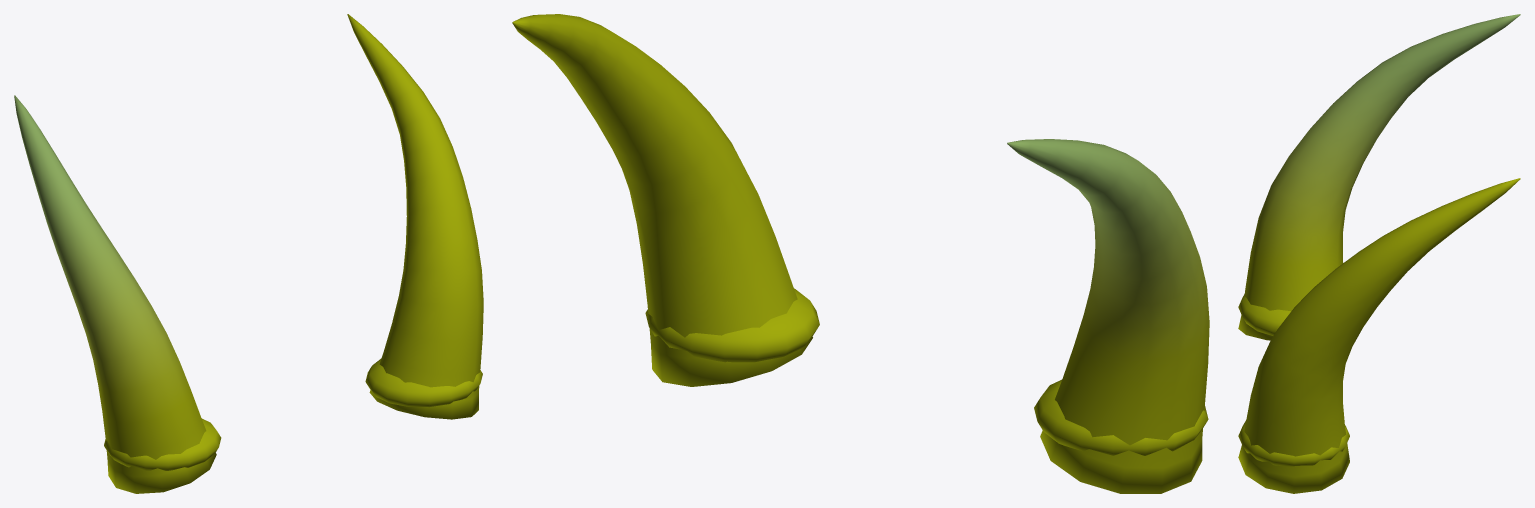
Rendered from GXR_HORNS_01_DRACONIC.glb.
The picture shows the model from 3 angles, left to right: view 1: azimuth 30°, elevation 25°; view 2: azimuth 150°, elevation 25°; view 3: azimuth 270°, elevation 25°; orthographic projection. The views are drawn at different scales.
Visible parts, largest first — view 1: Mesh_Horn_R, Mesh_Horn_L, Mesh_Keratin_Seat_L, Mesh_Keratin_Seat_R; view 2: Mesh_Horn_L, Mesh_Horn_R, Mesh_Keratin_Seat_L, Mesh_Keratin_Seat_R; view 3: Mesh_Horn_L, Mesh_Horn_R, Mesh_Keratin_Seat_L, Mesh_Keratin_Seat_R.
Part boxes in pixels (x1,y1,x2,y2): Mesh_Horn_R: (14, 95, 216, 493); Mesh_Horn_L: (347, 14, 483, 419); Mesh_Keratin_Seat_L: (365, 358, 482, 407); Mesh_Keratin_Seat_R: (104, 418, 221, 470); Mesh_Horn_L: (512, 14, 812, 386); Mesh_Horn_R: (1007, 139, 1209, 493); Mesh_Keratin_Seat_L: (645, 288, 819, 362); Mesh_Keratin_Seat_R: (1034, 379, 1208, 455); Mesh_Horn_L: (1238, 178, 1520, 493); Mesh_Horn_R: (1238, 14, 1520, 340); Mesh_Keratin_Seat_L: (1238, 420, 1349, 466); Mesh_Keratin_Seat_R: (1238, 294, 1290, 335).
Bounding box in the file's own units: 0.3849 × 0.2878 × 0.2372.
